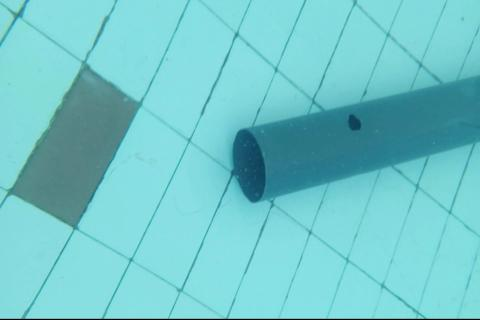kebocoran: (347, 112, 362, 131)
